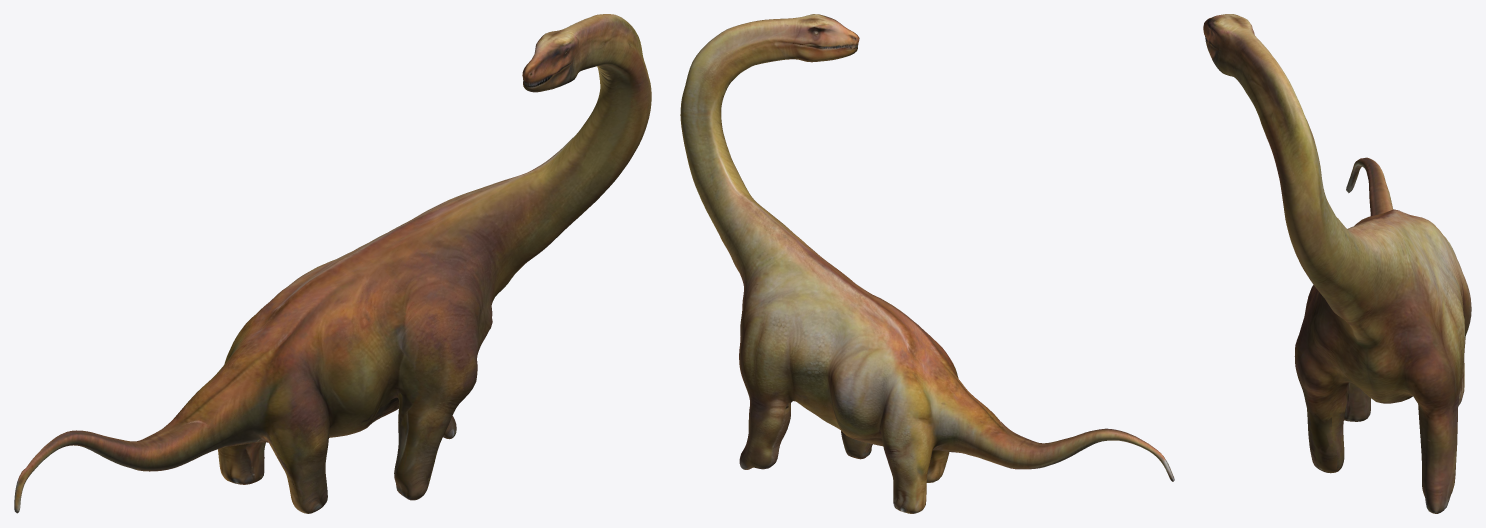
The picture shows the model from 3 angles, left to right: view 1: azimuth 30°, elevation 25°; view 2: azimuth 150°, elevation 25°; view 3: azimuth 270°, elevation 25°; orthographic projection. The views are drawn at different scales.
Parts seen in each view (by area): view 1: Mesh0; view 2: Mesh0; view 3: Mesh0.
Part boxes in pixels (x1=…): Mesh0: x1=14, y1=14, x2=651, y2=513; Mesh0: x1=680, y1=14, x2=1174, y2=513; Mesh0: x1=1203, y1=14, x2=1471, y2=513.
Bounding box in the file's own units: 1.31 × 0.9634 × 0.4668.
Materials: 1 (1 with a texture image).
